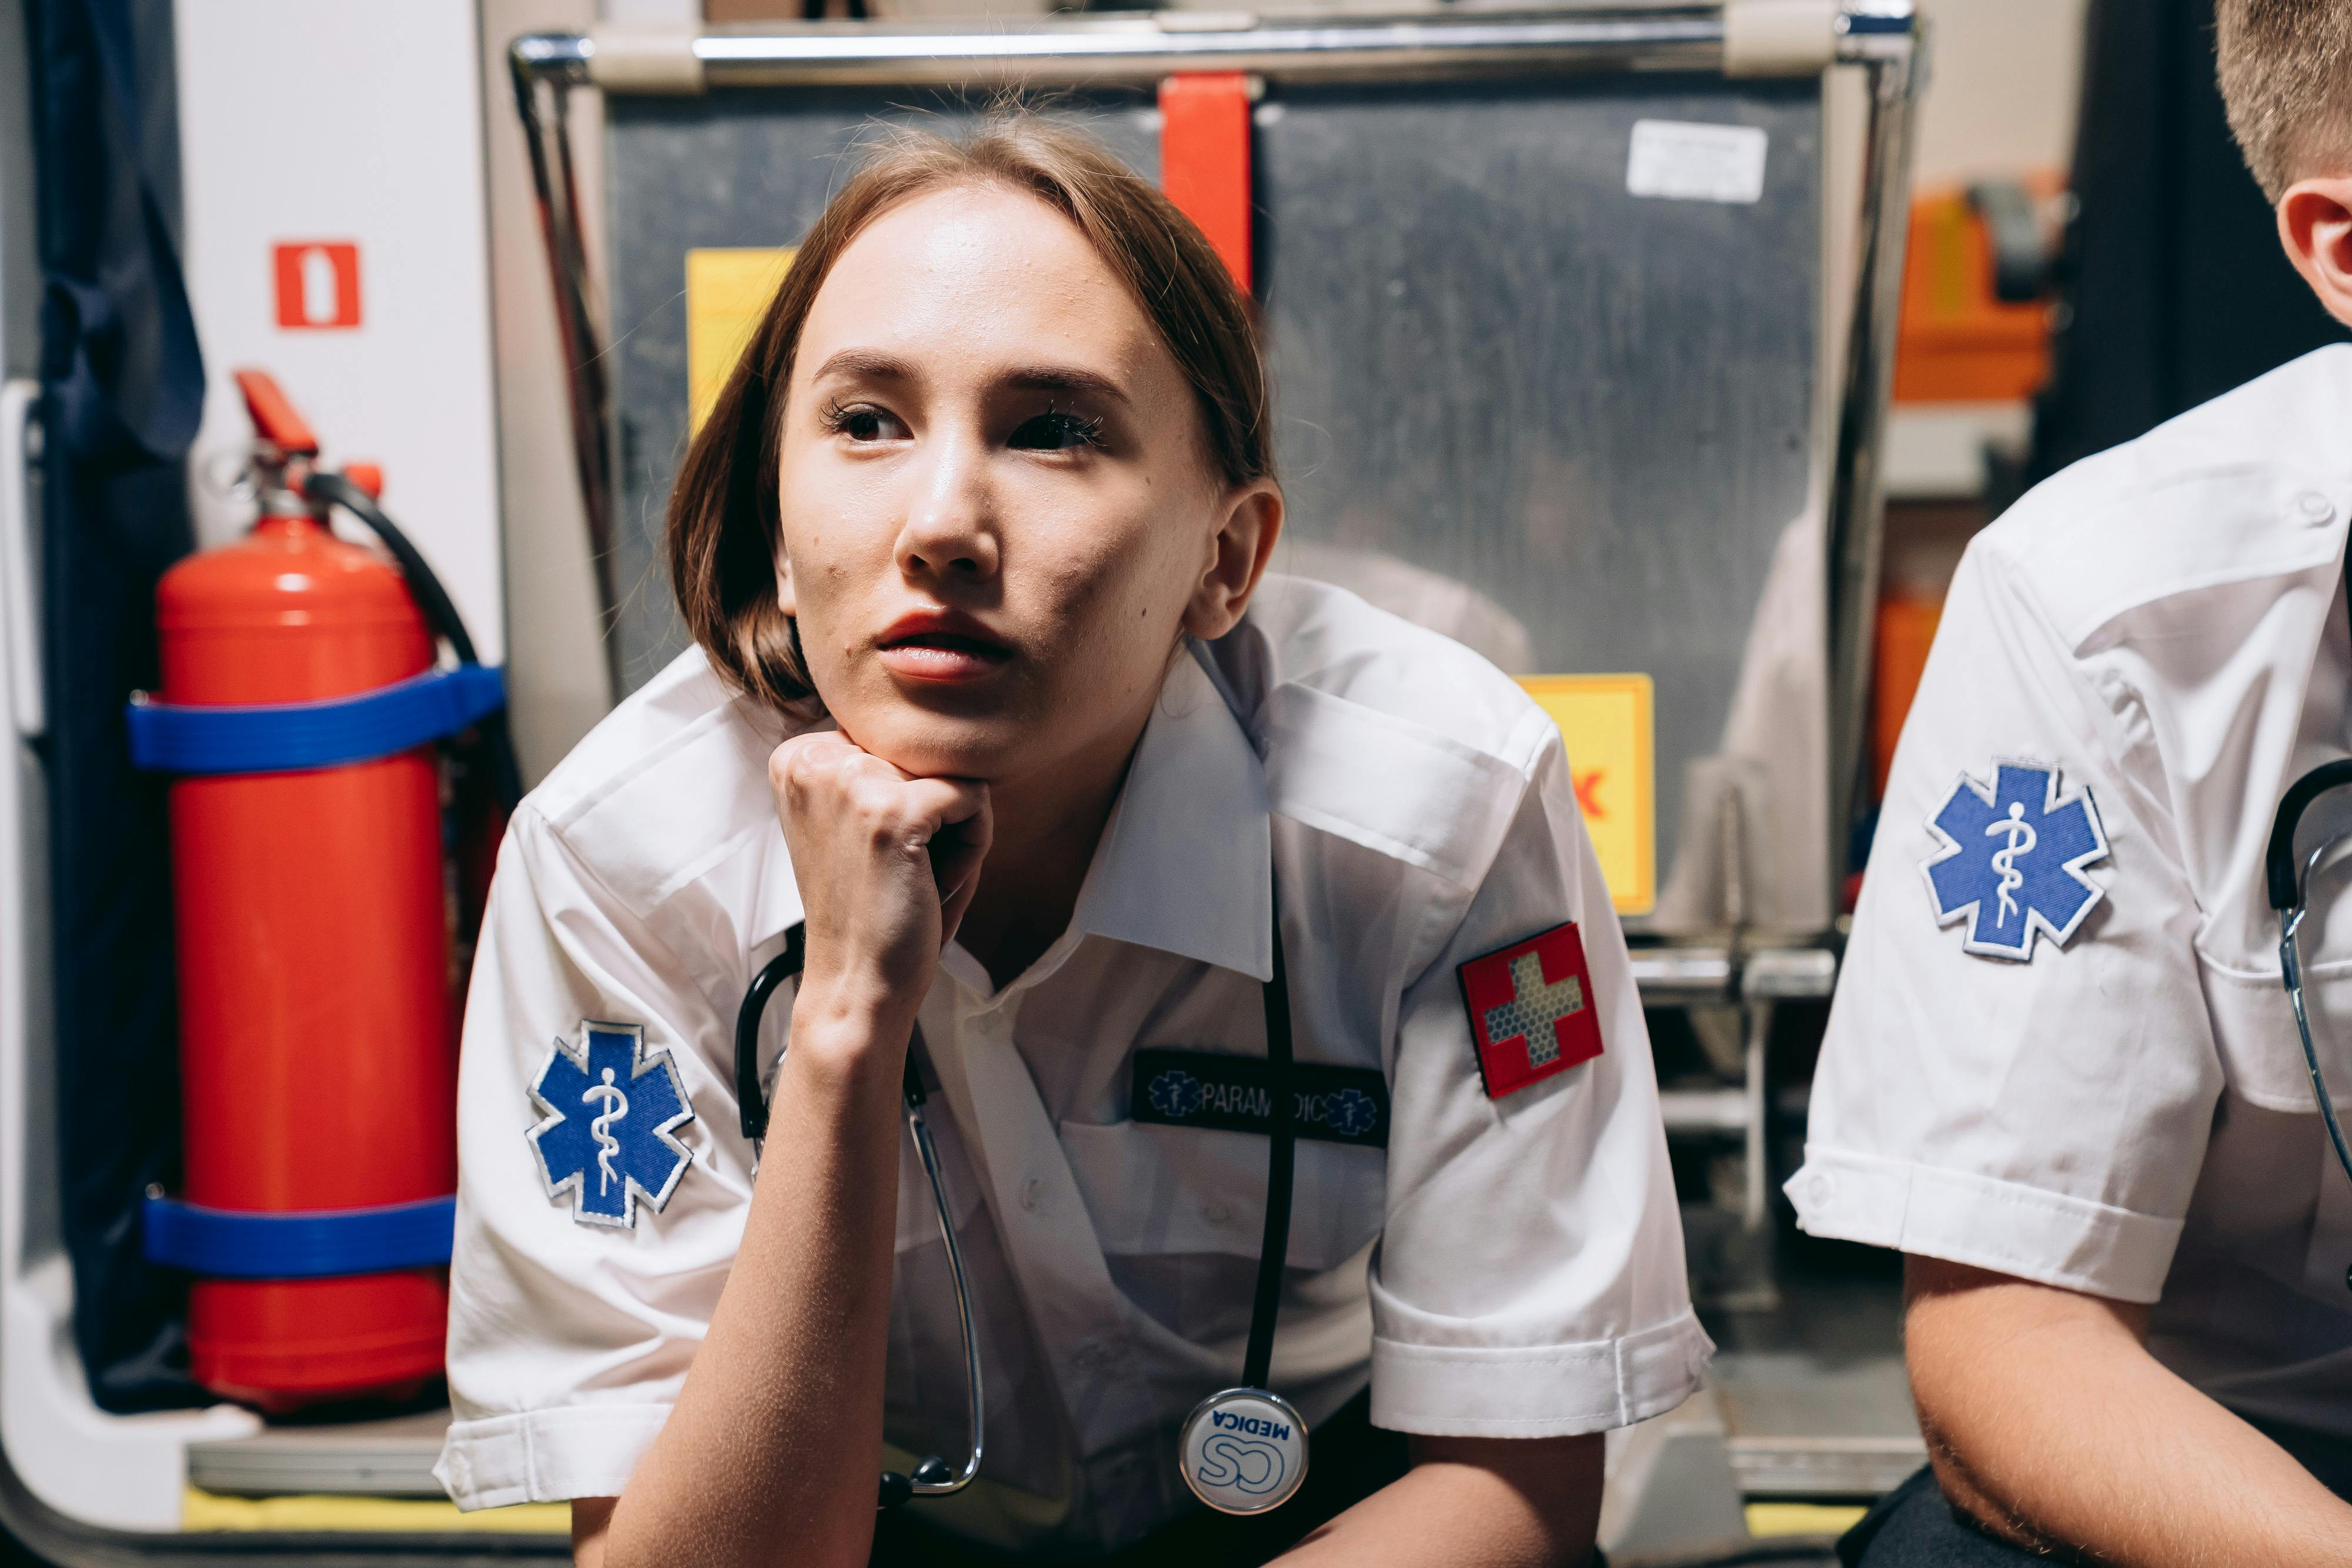extintor: (149, 353, 481, 1405)
